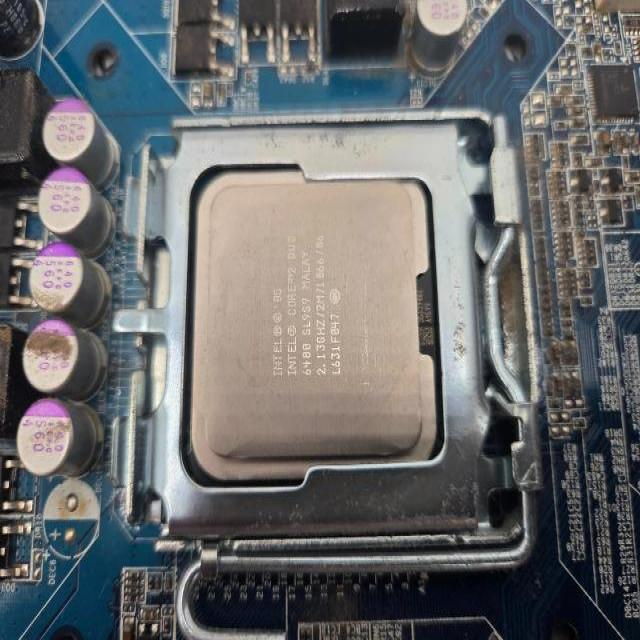CPU: (189, 170, 439, 486)
